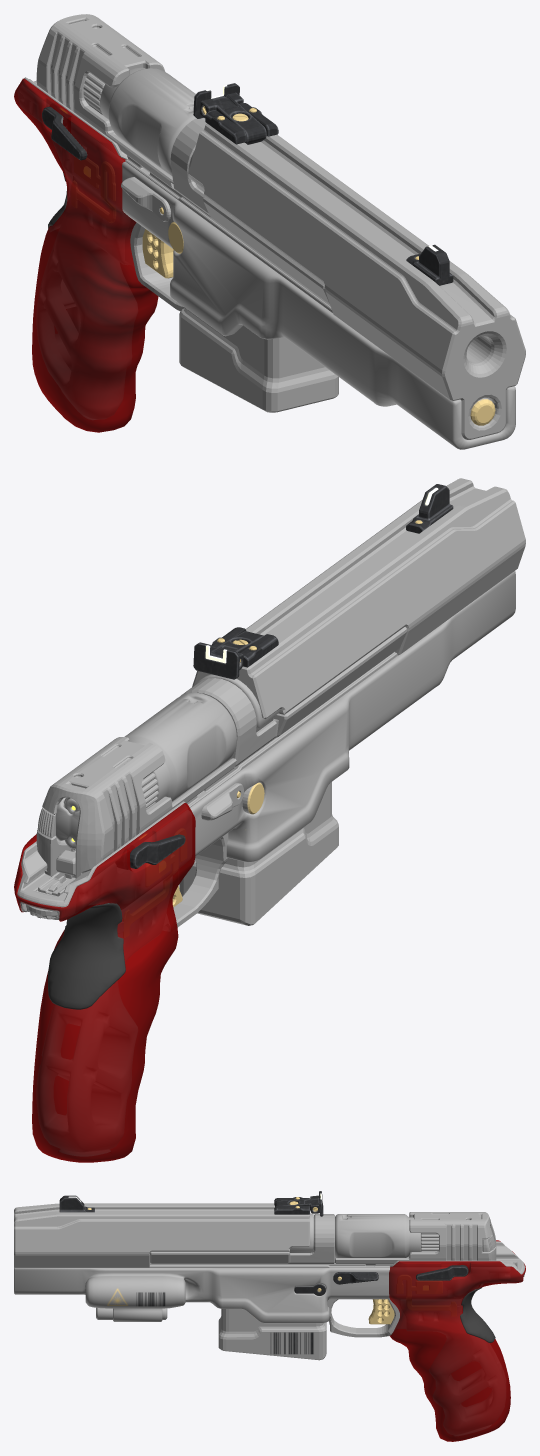
The picture shows the model from 3 angles, top to bottom: view 1: azimuth 30°, elevation 25°; view 2: azimuth 150°, elevation 25°; view 3: azimuth 270°, elevation 25°; orthographic projection. The views are drawn at different scales.
Parts seen in each view (by area): view 1: w_handgun_malorian_slide.002; view 2: w_handgun_malorian_slide.002; view 3: w_handgun_malorian_slide.002.
Part boxes in pixels (x1,y1,x2,y2): w_handgun_malorian_slide.002: [14, 14, 525, 449]; w_handgun_malorian_slide.002: [14, 478, 525, 1162]; w_handgun_malorian_slide.002: [14, 1191, 525, 1441].
Bounding box in the file's own units: 5.3 × 17.06 × 32.84.
Materials: 1 (1 with a texture image).
